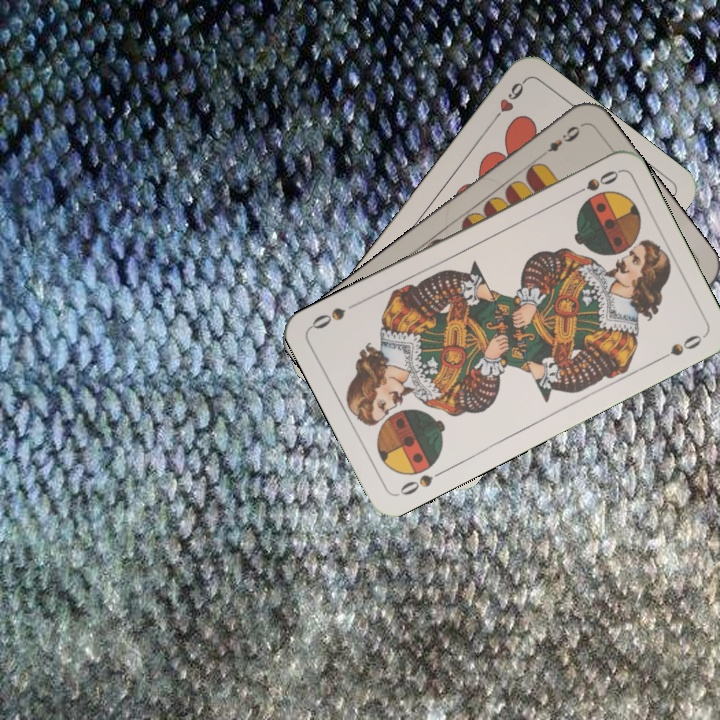E9: (535, 120, 585, 160)
H9: (487, 76, 528, 127)
SO: (566, 166, 622, 200), (393, 465, 448, 499)
